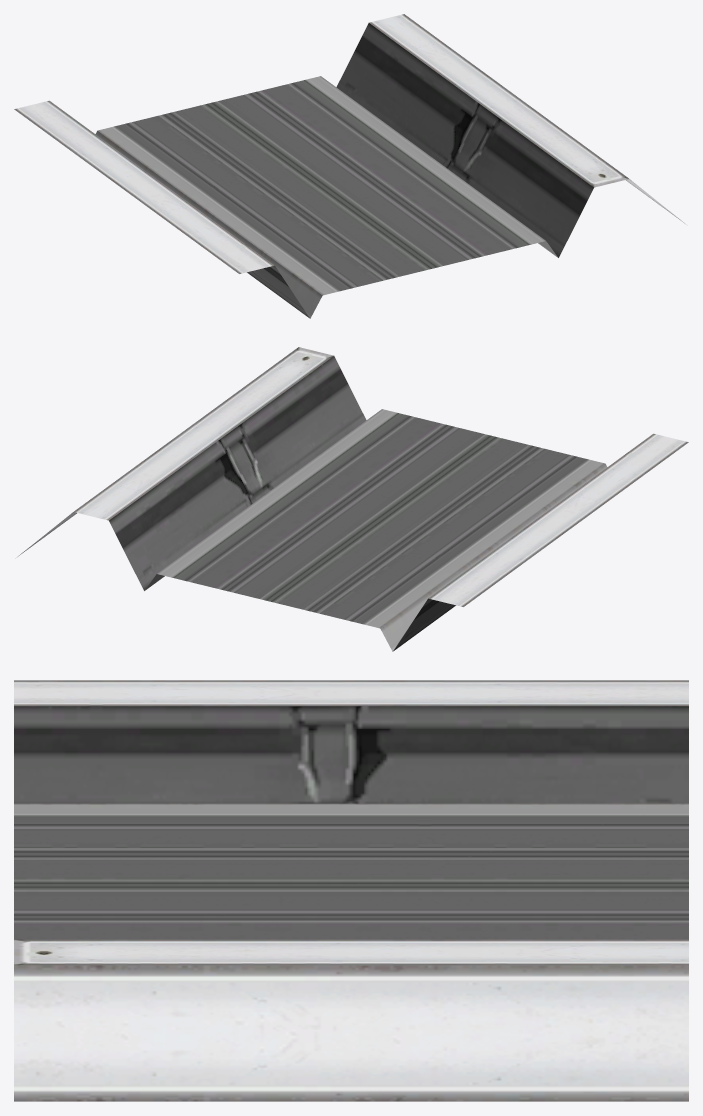
File: Ground_Trim_1x4.FBX
The picture shows the model from 3 angles, top to bottom: view 1: azimuth 30°, elevation 25°; view 2: azimuth 150°, elevation 25°; view 3: azimuth 270°, elevation 25°; orthographic projection. The views are drawn at different scales.
Parts seen in each view (by area): view 1: Ground_Trim_1x4; view 2: Ground_Trim_1x4; view 3: Ground_Trim_1x4.
Part boxes in pixels (<box>): Ground_Trim_1x4: <box>14,14,684,318</box>; Ground_Trim_1x4: <box>18,347,688,651</box>; Ground_Trim_1x4: <box>14,680,688,1101</box>.
Size of the model in its own units: 1.15 by 0.152 by 1.
